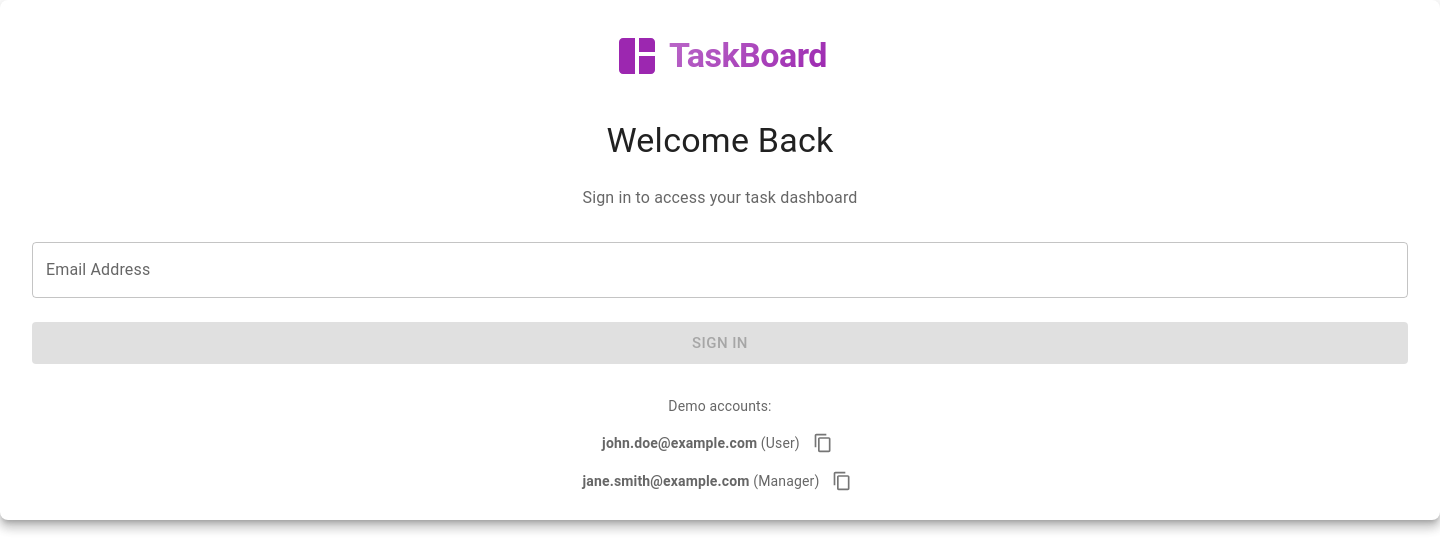
Test: LoginForm › submit button is enabled when email is entered
This screenshot has width=1440, height=550.
Type "test@example.com" into the field labelled "Email Address".
click(720, 270); type("test@example.com")  # box [32,242,1408,298]
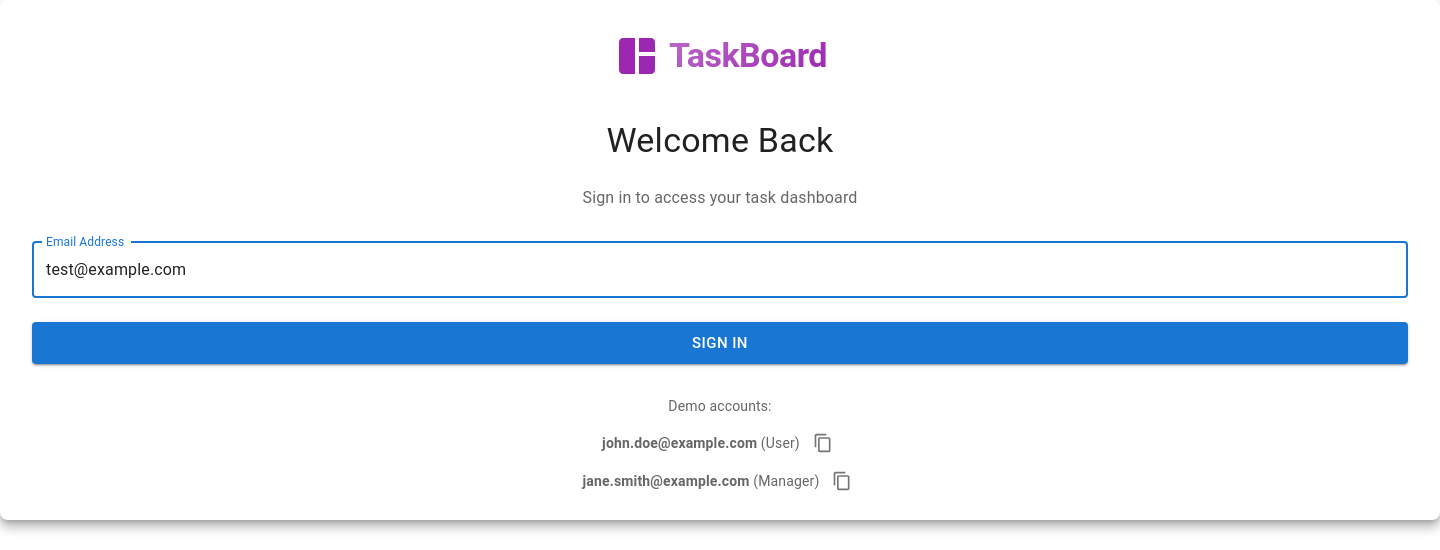
Now the button "Sign In" is enabled, box [32,322,1408,364]
